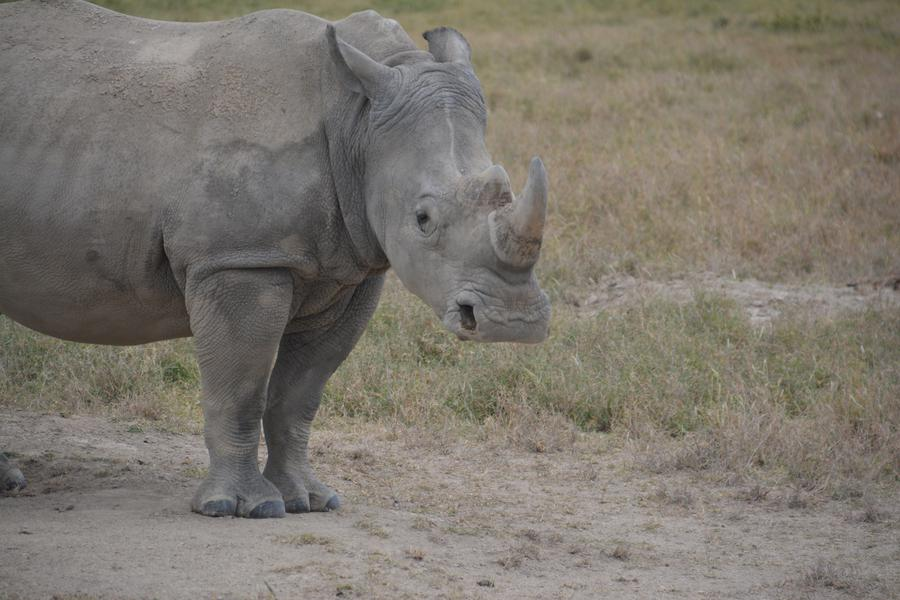rhino: (25, 18, 501, 450)
